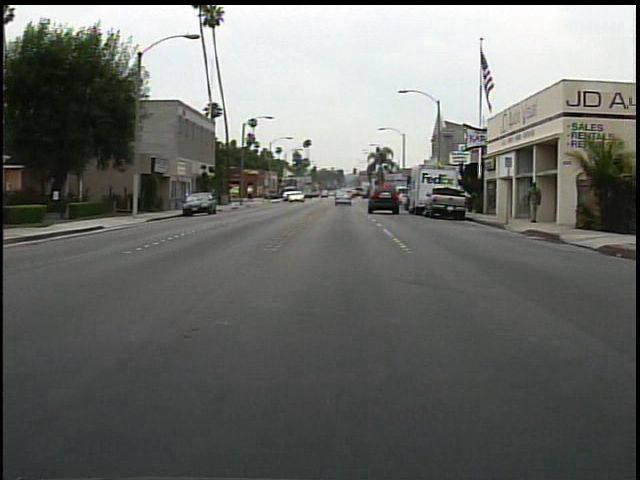person: (523, 180, 546, 227)
